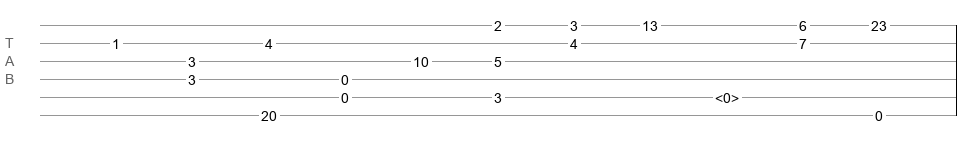0: (341, 72, 349, 82), (341, 90, 349, 100), (875, 108, 883, 118)
1: (112, 36, 120, 46)
10: (413, 54, 429, 64)
13: (642, 18, 658, 28)
2: (494, 18, 502, 28)
20: (261, 108, 277, 118)
23: (871, 18, 887, 28)
3: (188, 72, 196, 82), (188, 54, 196, 64), (494, 90, 502, 100), (570, 18, 578, 28)
4: (265, 36, 273, 46), (570, 36, 578, 46)
5: (494, 54, 502, 64)
6: (799, 18, 807, 28)
7: (799, 36, 807, 46)
harmonic: (715, 90, 739, 100)
